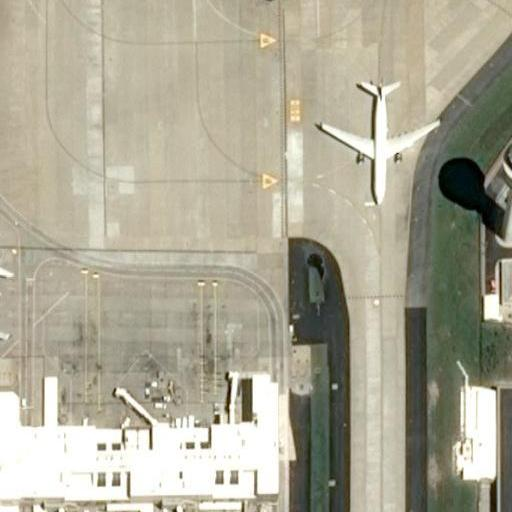Aircraft: (313, 68, 441, 203), (0, 245, 17, 361)
